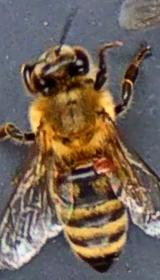varroa_mite: (83, 148, 120, 178)
